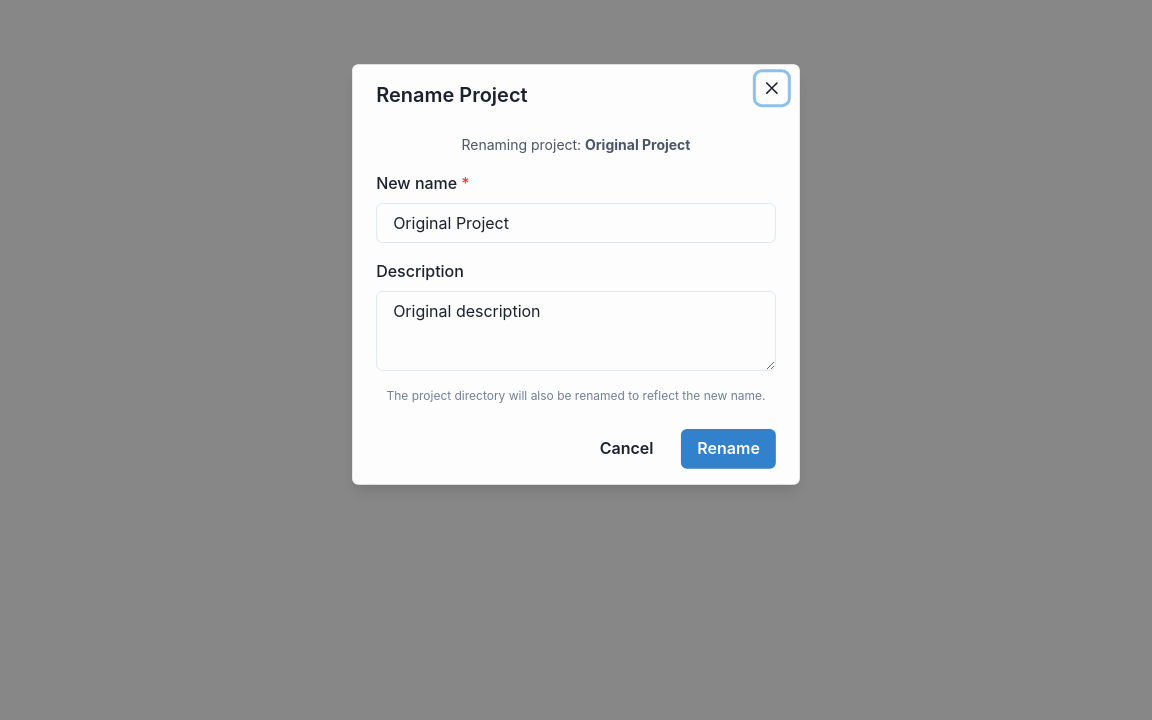
Test case: RenameProjectModal › disables submit button when name is empty
Expected: the button "Rename" is shown, [681,429,776,469]
Clear the field with placeholder "Enter the new project name" at {"x": 576, "y": 223}, box [376,203,776,243]
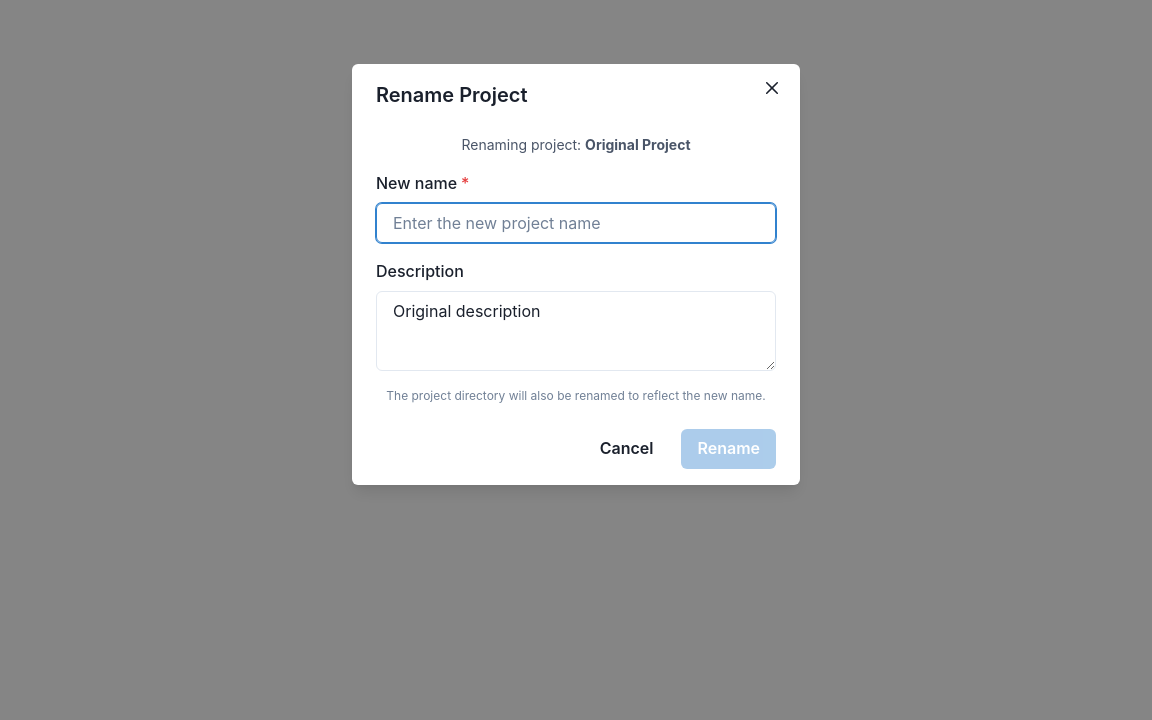
Now the button "Rename" is disabled, box [682,429,776,469]
